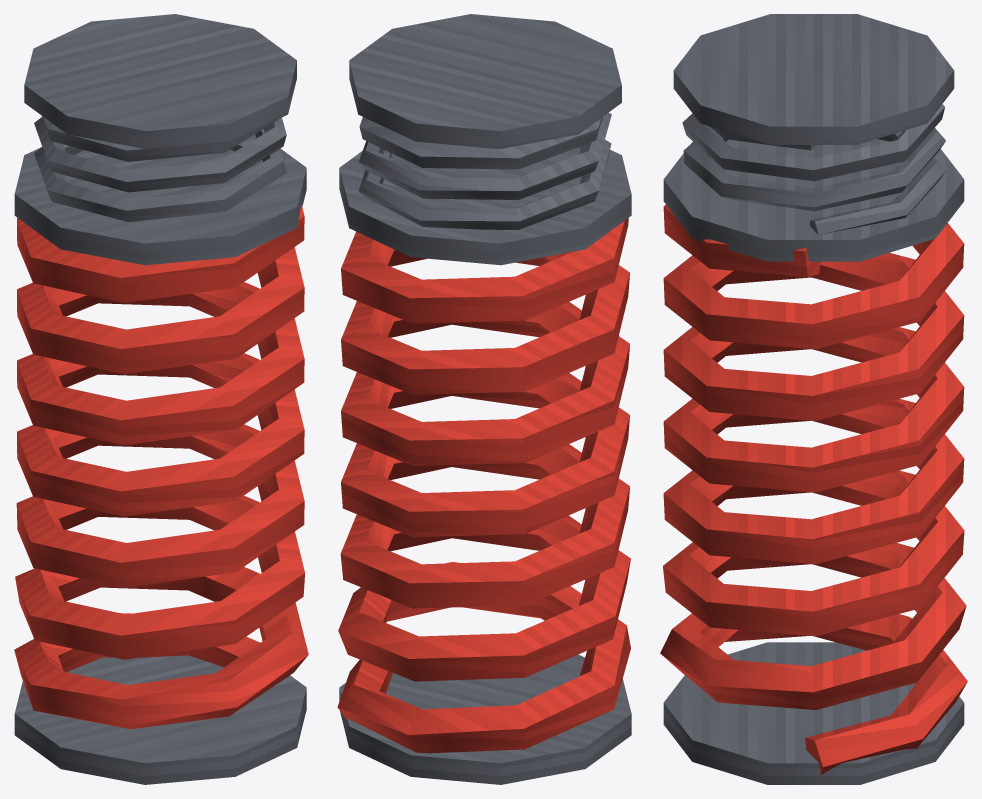
File: molas_n4.glb
3 views of the same model, side by side, from view 1: azimuth 30°, elevation 25°; view 2: azimuth 150°, elevation 25°; view 3: azimuth 270°, elevation 25° (orthographic).
Parts seen in each view (by area): view 1: molas_n4; view 2: molas_n4; view 3: molas_n4.
Boxes of the visible parts, box(x1,y1,x2,y2) form: molas_n4: box(14, 14, 308, 784); molas_n4: box(337, 14, 631, 784); molas_n4: box(660, 14, 967, 784).
Size of the model in its own units: 0.1525 by 0.36 by 0.1536.
Materials: 1 (1 with a texture image).
